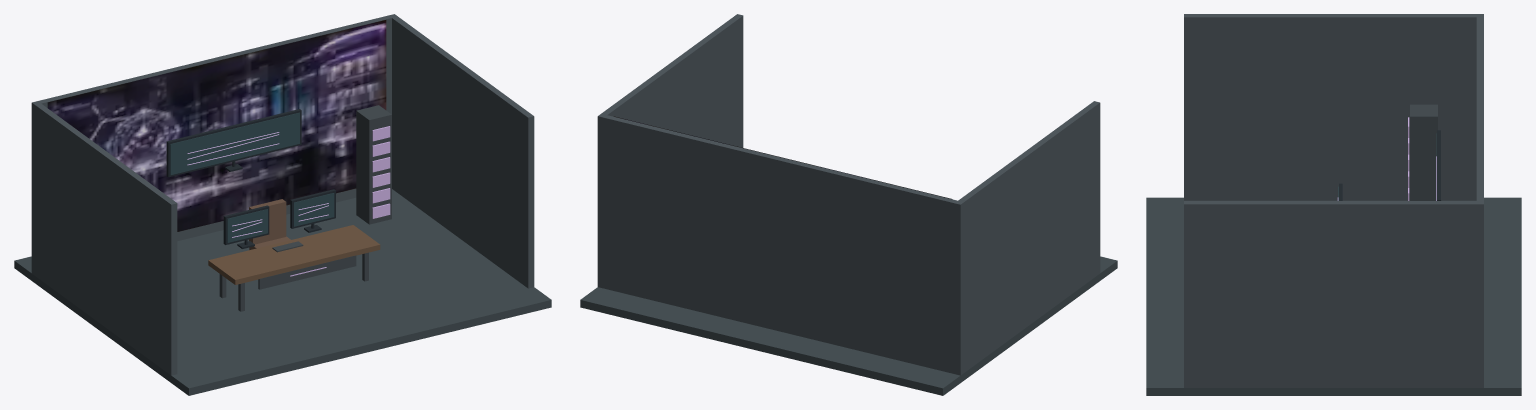
File: quant.glb
3 views of the same model, side by side, from view 1: azimuth 30°, elevation 25°; view 2: azimuth 150°, elevation 25°; view 3: azimuth 270°, elevation 25° (orthographic). The views are drawn at different scales.
Parts seen in each view (by area): view 1: Room floor slab.003, Room cinematic backplate.003, Room left wall.003, Room right wall.003, Executive desk top.003, Abstract market display, Compute rack, Room rear wall.003, Desk front fascia.003, Monitor bezel.011, Abstract market display.011, Abstract market display.010 (+2 smaller); view 2: Room rear wall.003, Room left wall.003, Room floor slab.003, Room right wall.003; view 3: Room right wall.003, Room left wall.003, Room floor slab.003, Room rear wall.003, Compute rack.001.
Boxes of the visible parts, <box> form: Room floor slab.003: <box>14,189,551,395</box>; Room cinematic backplate.003: <box>47,20,386,231</box>; Room left wall.003: <box>31,102,177,375</box>; Room right wall.003: <box>392,16,534,288</box>; Executive desk top.003: <box>208,225,380,284</box>; Abstract market display: <box>170,112,299,175</box>; Compute rack: <box>356,105,391,224</box>; Room rear wall.003: <box>33,14,397,240</box>; Desk front fascia.003: <box>258,255,356,289</box>; Monitor bezel.011: <box>166,109,301,177</box>; Abstract market display.011: <box>294,193,334,226</box>; Abstract market display.010: <box>227,209,267,242</box>; Room rear wall.003: <box>597,114,963,375</box>; Room left wall.003: <box>954,101,1100,374</box>; Room floor slab.003: <box>580,256,1117,395</box>; Room right wall.003: <box>598,14,743,147</box>; Room right wall.003: <box>1184,201,1483,387</box>; Room left wall.003: <box>1184,14,1483,200</box>; Room floor slab.003: <box>1146,197,1521,395</box>; Room rear wall.003: <box>1476,14,1483,387</box>; Compute rack.001: <box>1410,104,1437,200</box>.
Size of the model in its own units: 12 by 5.64 by 10.
9 materials, 1 textured.
